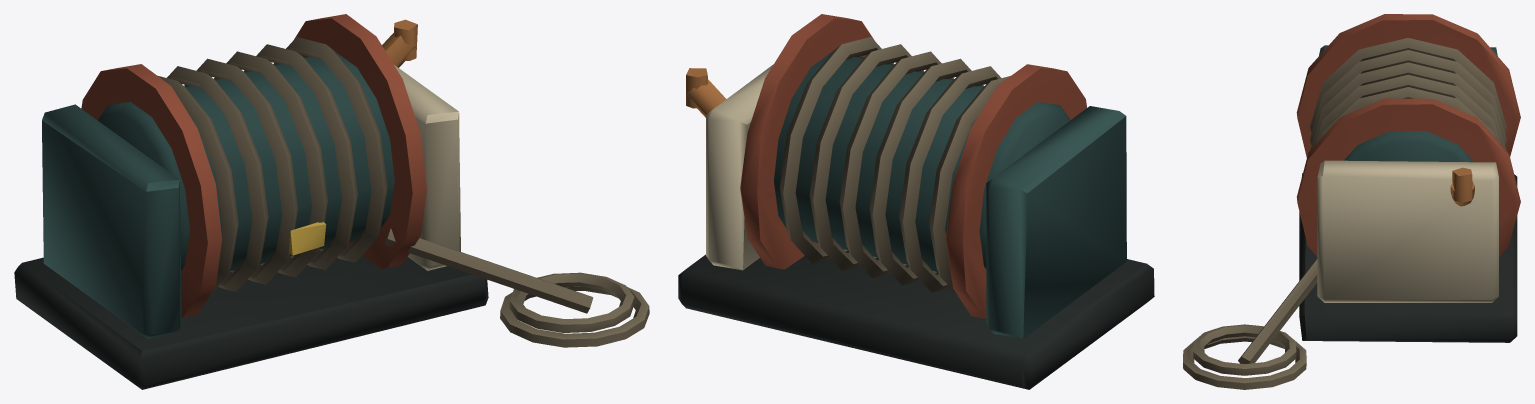
File: winch_drum_a_lod1.glb
3 renders of one model, left to right at view 1: azimuth 30°, elevation 25°; view 2: azimuth 150°, elevation 25°; view 3: azimuth 270°, elevation 25°, orthographic. The views are drawn at different scales.
Parts seen in each view (by area): view 1: Surface.001; view 2: Surface.001; view 3: Surface.001.
Part boxes in pixels (box(x1,y1,x2,y2)): Surface.001: box(14, 14, 649, 389); Surface.001: box(678, 14, 1154, 389); Surface.001: box(1183, 14, 1520, 389).
Size of the model in its own units: 2.52 by 1.3 by 1.86.
